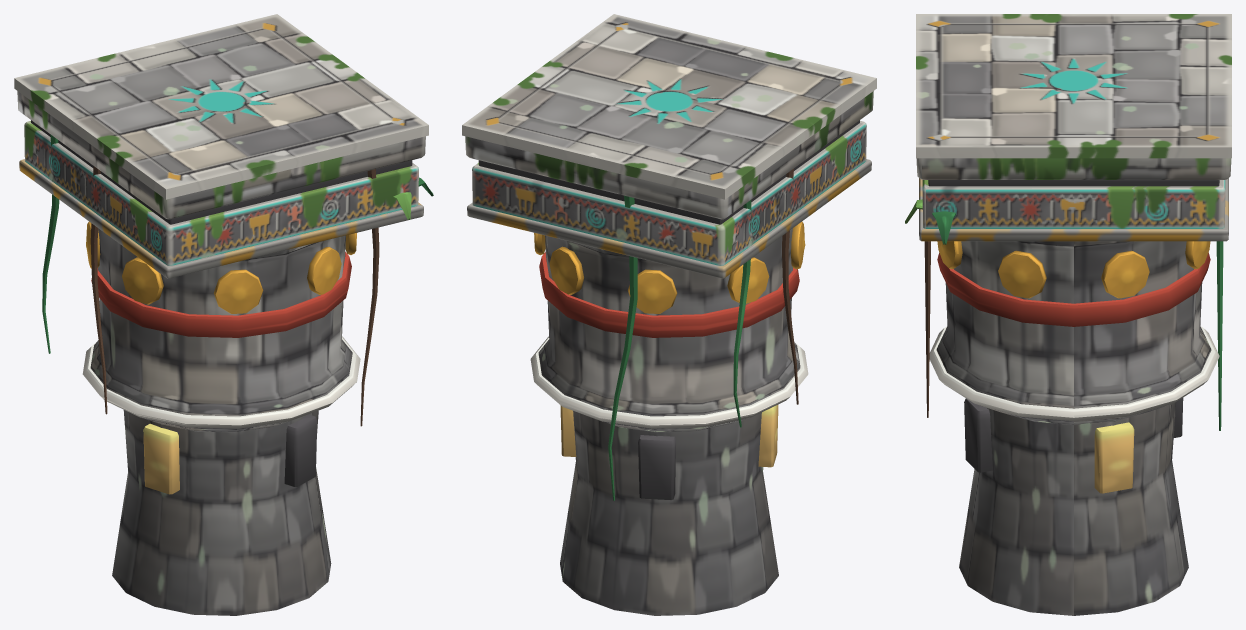
Rendered from tower_drum.glb.
3 renders of one model, left to right at view 1: azimuth 30°, elevation 25°; view 2: azimuth 150°, elevation 25°; view 3: azimuth 270°, elevation 25°, orthographic. The views are drawn at different scales.
Parts seen in each view (by area): view 1: tower_drum.001; view 2: tower_drum.001; view 3: tower_drum.001.
Part boxes in pixels (x1,y1,x2,y2): tower_drum.001: (14,14,433,615); tower_drum.001: (462,14,876,615); tower_drum.001: (905,14,1231,615).
Size of the model in its own units: 8.54 by 13.6 by 8.28.
Materials: 1 (1 with a texture image).
